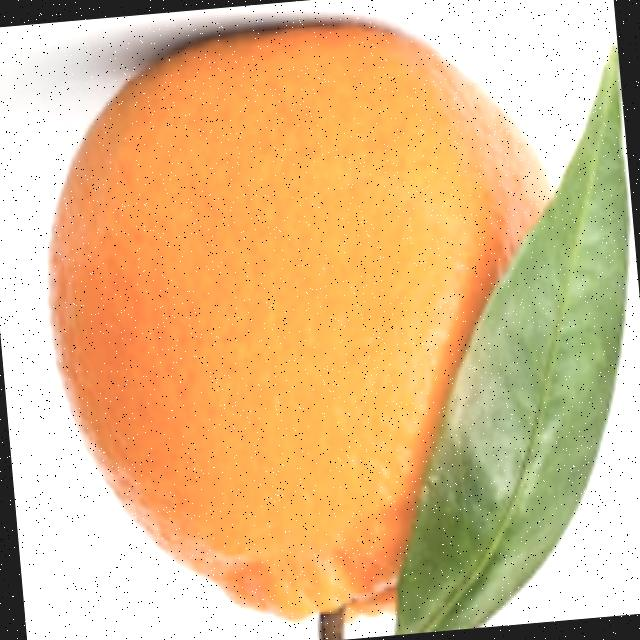orange: (24, 1, 595, 640)
